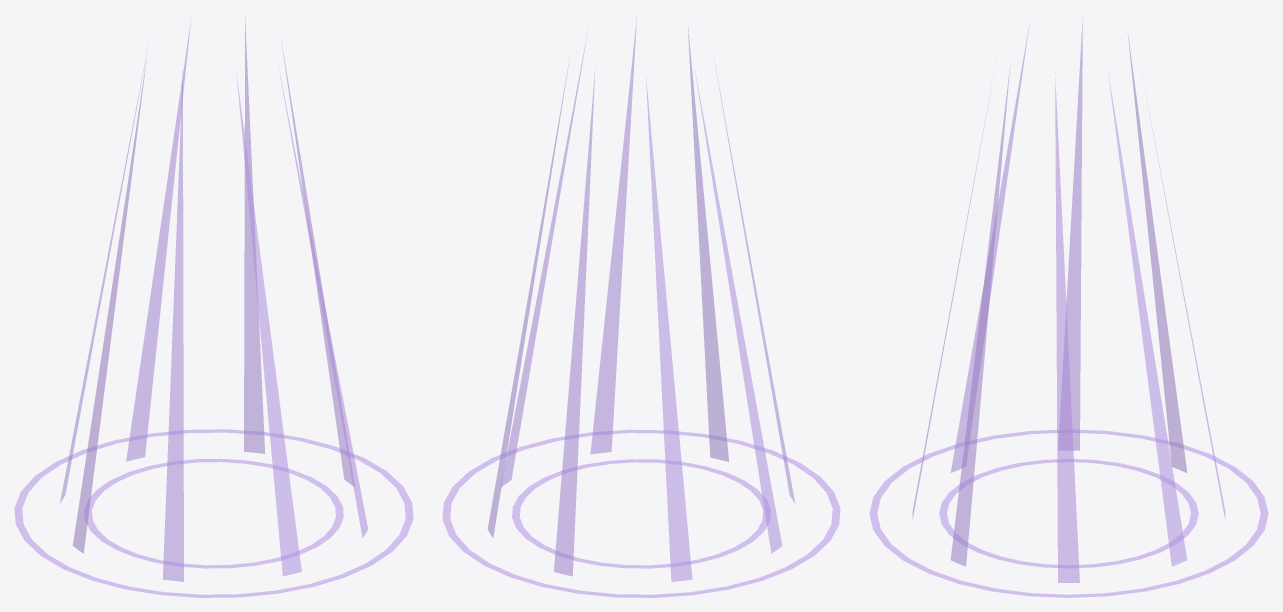
Rendered from teleport.glb.
3 views of the same model, side by side, from view 1: azimuth 30°, elevation 25°; view 2: azimuth 150°, elevation 25°; view 3: azimuth 270°, elevation 25° (orthographic).
Parts seen in each view (by area): view 1: teleport; view 2: teleport; view 3: teleport.
Boxes of the visible parts, bbox=[...] form: teleport: bbox=[14, 17, 413, 597]; teleport: bbox=[442, 18, 840, 597]; teleport: bbox=[869, 15, 1268, 597].
Size of the model in its own units: 2.29 by 3 by 2.29.
